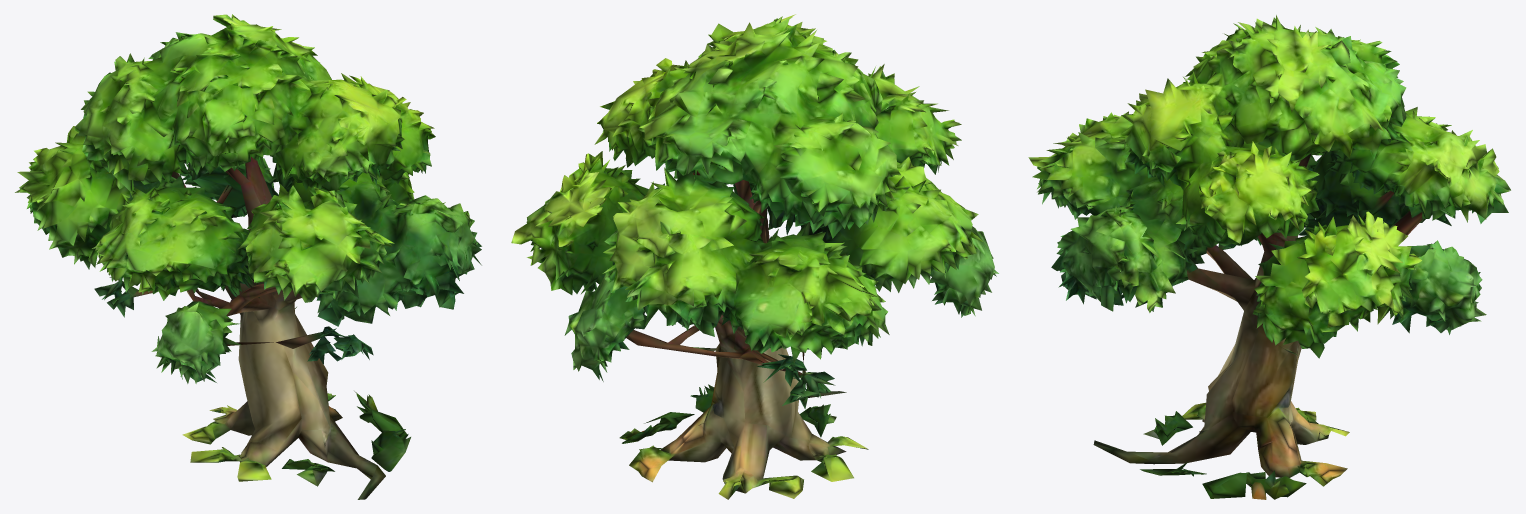
The model's file is prop_tree_big.glb.
The picture shows the model from 3 angles, left to right: view 1: azimuth 30°, elevation 25°; view 2: azimuth 150°, elevation 25°; view 3: azimuth 270°, elevation 25°; orthographic projection. The views are drawn at different scales.
Parts seen in each view (by area): view 1: tripo_node_f5df90a9-8bd3-4524-8e7c-e712e6d78533; view 2: tripo_node_f5df90a9-8bd3-4524-8e7c-e712e6d78533; view 3: tripo_node_f5df90a9-8bd3-4524-8e7c-e712e6d78533.
Part boxes in pixels (<box>): tripo_node_f5df90a9-8bd3-4524-8e7c-e712e6d78533: <box>15,14,481,499</box>; tripo_node_f5df90a9-8bd3-4524-8e7c-e712e6d78533: <box>511,14,998,499</box>; tripo_node_f5df90a9-8bd3-4524-8e7c-e712e6d78533: <box>1028,15,1510,499</box>.
Size of the model in its own units: 0.8214 by 0.9241 by 0.9787.
1 material, 1 textured.
